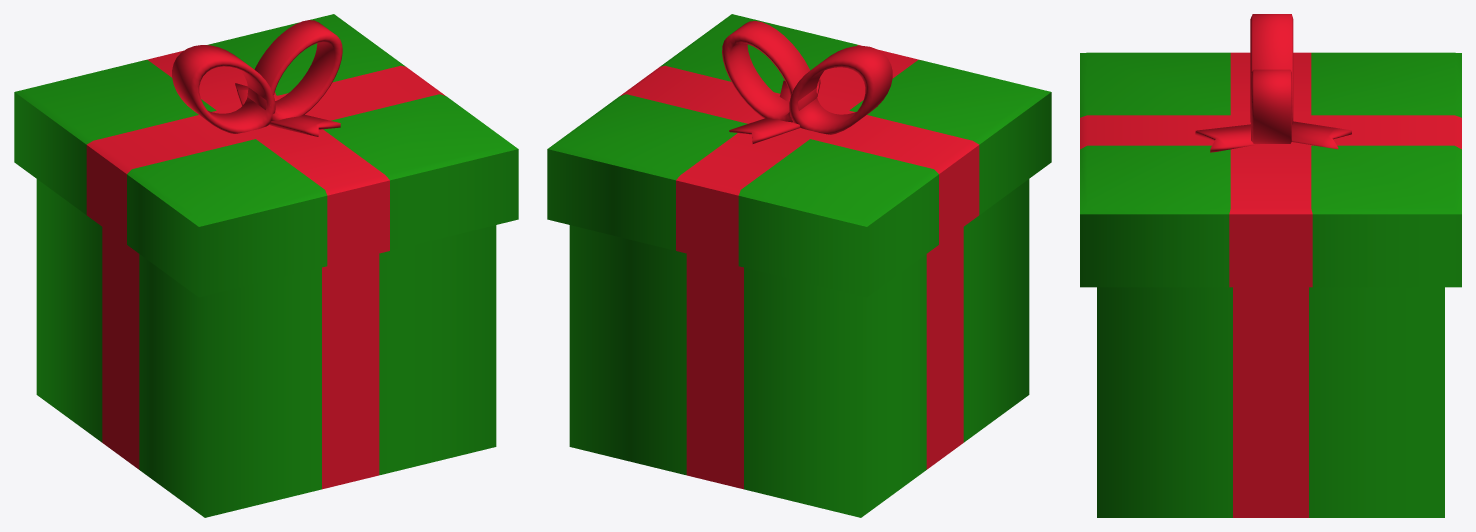
File: giftBox.fbx
3 renders of one model, left to right at view 1: azimuth 30°, elevation 25°; view 2: azimuth 150°, elevation 25°; view 3: azimuth 270°, elevation 25°, orthographic. The views are drawn at different scales.
Parts seen in each view (by area): view 1: Gift Box; view 2: Gift Box; view 3: Gift Box.
Part boxes in pixels (left/top/right/bottom): Gift Box: left=14, top=14, right=518, bottom=517; Gift Box: left=547, top=14, right=1051, bottom=517; Gift Box: left=1080, top=14, right=1461, bottom=517.
Bounding box in the file's own units: 20.05 × 20.05 × 22.94.
